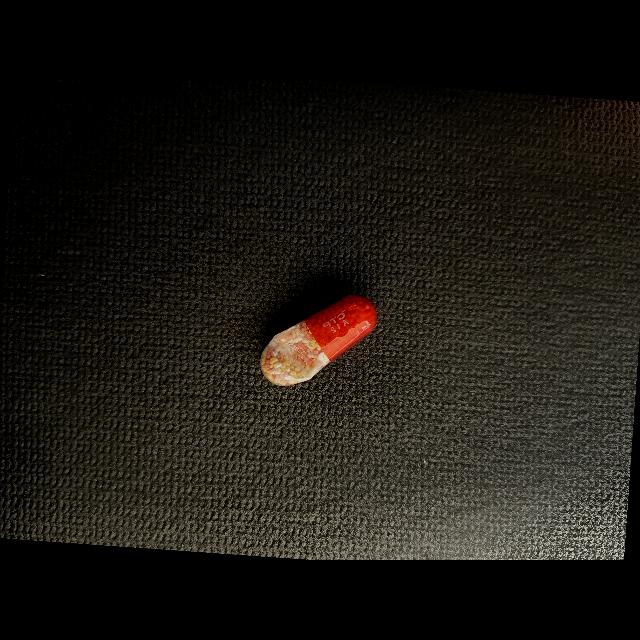Defective Capsule: (260, 294, 377, 386)
